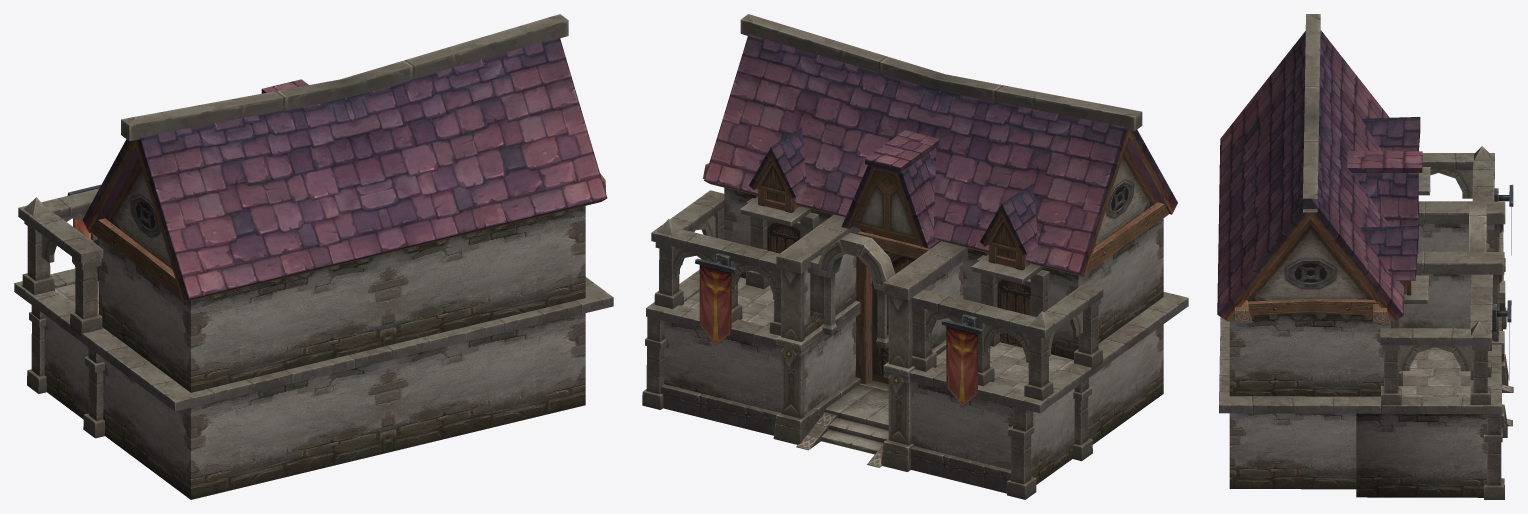
File: building_city_zhuchengyongbing.FBX
3 views of the same model, side by side, from view 1: azimuth 30°, elevation 25°; view 2: azimuth 150°, elevation 25°; view 3: azimuth 270°, elevation 25° (orthographic). The views are drawn at different scales.
Parts seen in each view (by area): view 1: building_city_zhuchengyongbing; view 2: building_city_zhuchengyongbing; view 3: building_city_zhuchengyongbing.
Boxes of the visible parts, x1,y1,x2,y2 form: building_city_zhuchengyongbing: (14, 14, 613, 499); building_city_zhuchengyongbing: (642, 14, 1188, 499); building_city_zhuchengyongbing: (1217, 14, 1513, 499).
Size of the model in its own units: 16.74 by 11.26 by 12.62.
